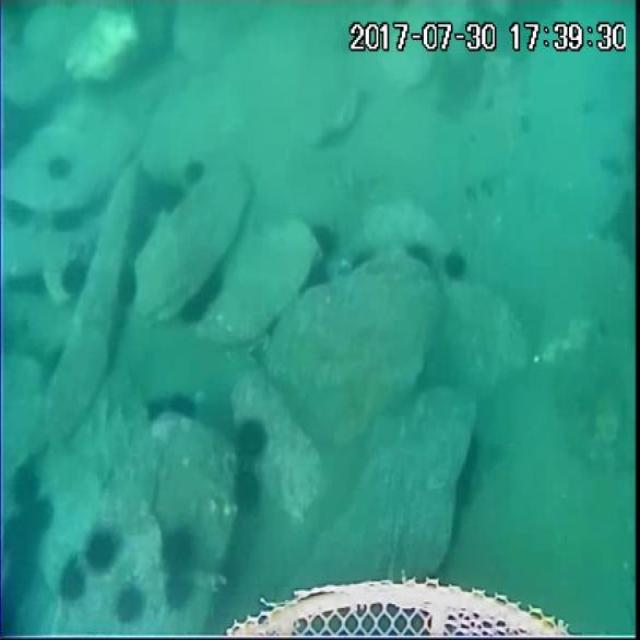echinus: (228, 461, 266, 519), (163, 526, 201, 582), (229, 417, 272, 464), (2, 514, 40, 566), (8, 466, 44, 510), (160, 573, 197, 615), (85, 527, 117, 572), (115, 586, 146, 630), (155, 178, 189, 218), (115, 264, 142, 312), (59, 259, 93, 297), (9, 270, 49, 302), (166, 388, 201, 424), (58, 563, 88, 604), (6, 194, 36, 234), (176, 295, 210, 328), (442, 248, 472, 283), (50, 205, 85, 235), (405, 239, 436, 272), (309, 223, 341, 253), (47, 156, 76, 188), (180, 159, 210, 189), (306, 259, 332, 293), (347, 250, 375, 278), (142, 396, 168, 425)
